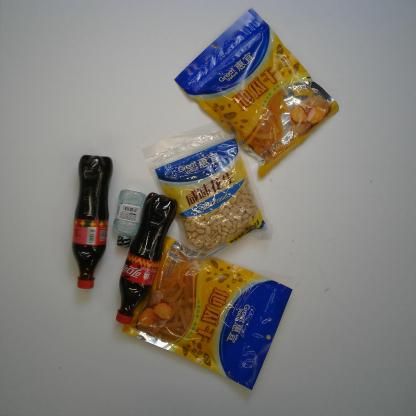Dried Fruit: (172, 6, 340, 180), (120, 234, 292, 392), (142, 119, 274, 273)
Drink: (114, 191, 178, 327), (70, 153, 114, 290)
Personal Hygiene: (111, 187, 149, 249)
